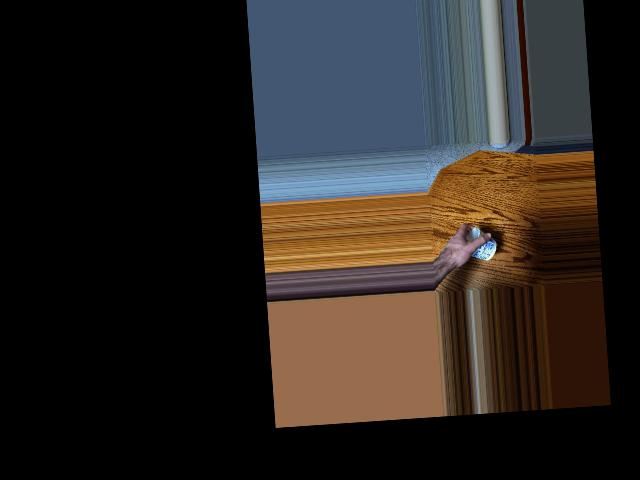cotage: (460, 226, 494, 266)
